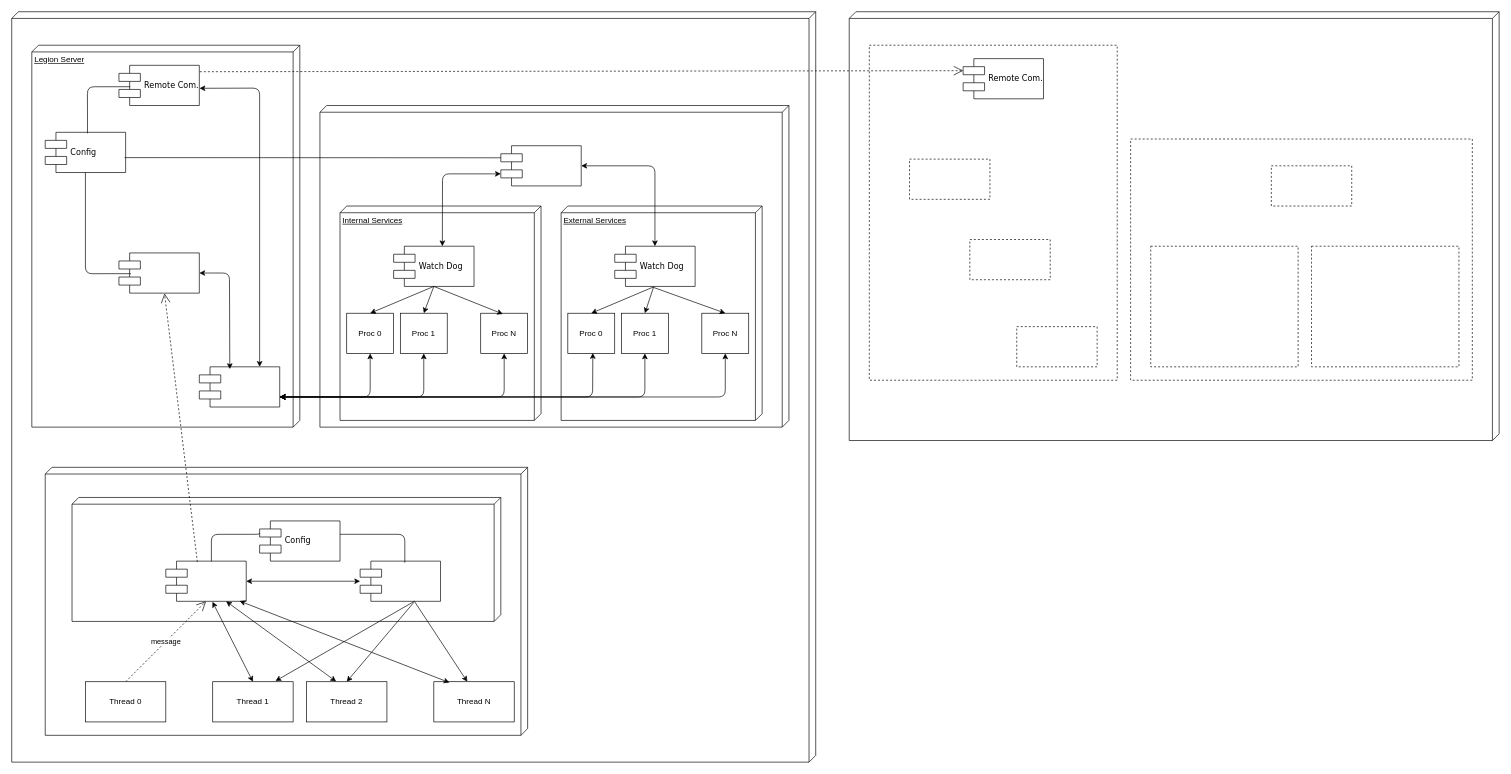
This 1511x774 diagram has some shape labels left out. The shapes that lost their labels are listed below. From the top down, each one's box as (x1, y1, x2, y2) in pixels, then its label:
(500, 145, 581, 186): Process Spawner
(849, 11, 1499, 441): Server Process Host N
(118, 252, 199, 293): Local Com.
(319, 105, 789, 427): Legion spawner
(199, 366, 280, 407): Balancer
(11, 11, 816, 762): Server Process Host 0
(71, 497, 501, 621): Legion Client API
(165, 560, 246, 601): API
(359, 560, 441, 601): Spawner
(45, 467, 528, 735): Client Process
